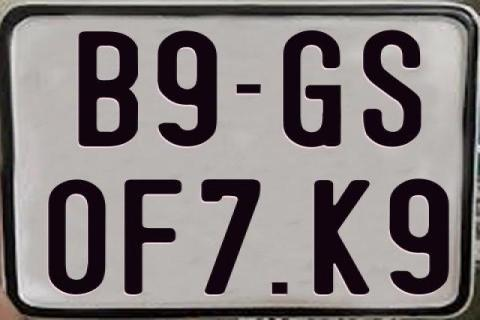0: (387, 177, 451, 295), (48, 179, 110, 297), (156, 28, 218, 144), (200, 177, 261, 293)
B: (79, 32, 138, 152)
F: (122, 177, 183, 293)
G: (280, 28, 344, 147)
K: (313, 178, 375, 294)
S: (362, 29, 420, 149)
